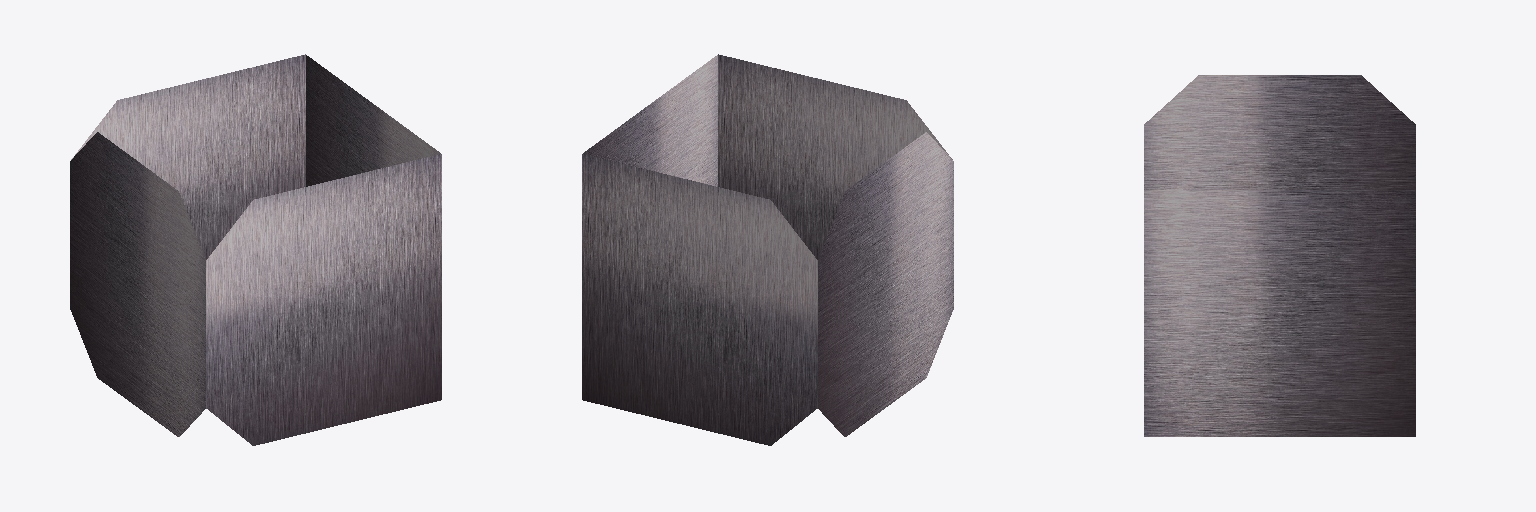
3 renders of one model, left to right at view 1: azimuth 30°, elevation 25°; view 2: azimuth 150°, elevation 25°; view 3: azimuth 270°, elevation 25°, orthographic.
Bounding box in the file's own units: 1 × 1 × 1.
Materials: 1 (1 with a texture image).